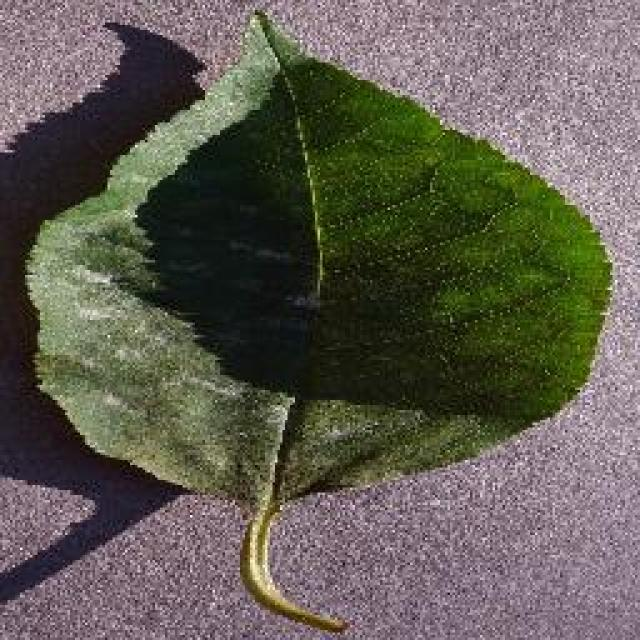Cherry___Powdery_mildew: (3, 2, 625, 640)
